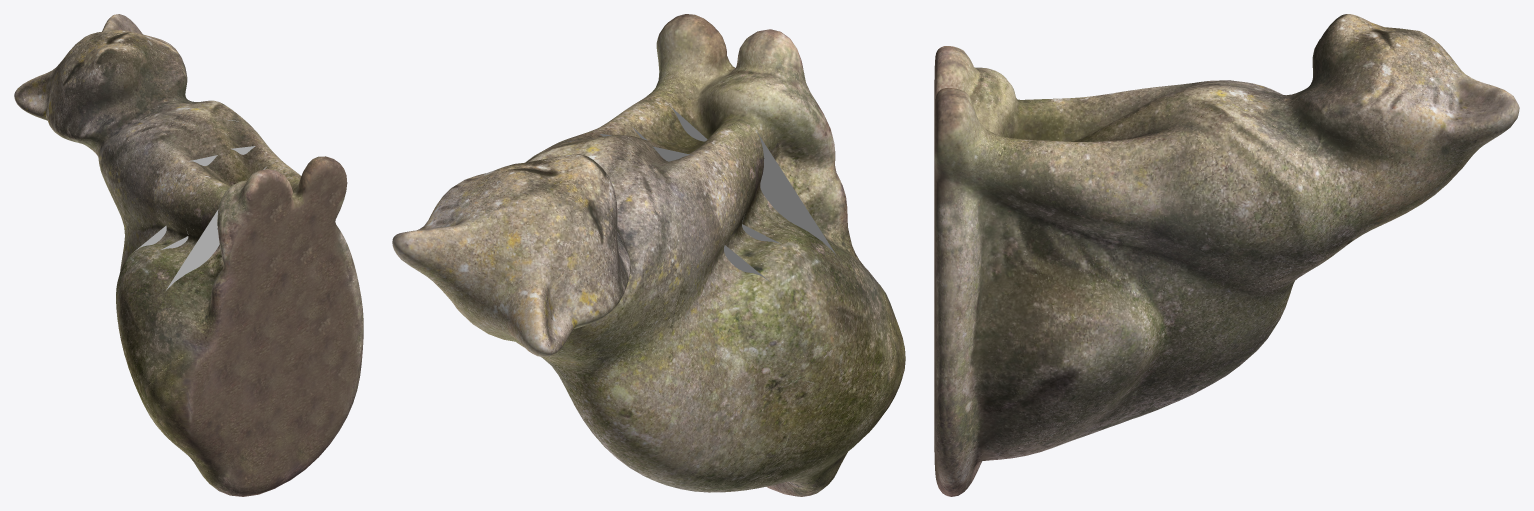
File: concrete_cat_statue_insides.fbx
The picture shows the model from 3 angles, left to right: view 1: azimuth 30°, elevation 25°; view 2: azimuth 150°, elevation 25°; view 3: azimuth 270°, elevation 25°; orthographic projection. The views are drawn at different scales.
Visible parts, largest first — view 1: concrete_cat_statue, Plane, Plane.002; view 2: concrete_cat_statue, Plane, Plane.002; view 3: concrete_cat_statue.
Part boxes in pixels (x1=…): concrete_cat_statue: x1=14, y1=14, x2=363, y2=496; Plane: x1=137, y1=209, x2=219, y2=376; Plane.002: x1=134, y1=146, x2=255, y2=251; concrete_cat_statue: x1=392, y1=14, x2=905, y2=496; Plane: x1=670, y1=106, x2=875, y2=481; Plane.002: x1=600, y1=134, x2=769, y2=281; concrete_cat_statue: x1=934, y1=14, x2=1519, y2=496.
Size of the model in its own units: 15.3 by 25 by 28.3.
1 material, 1 textured.
